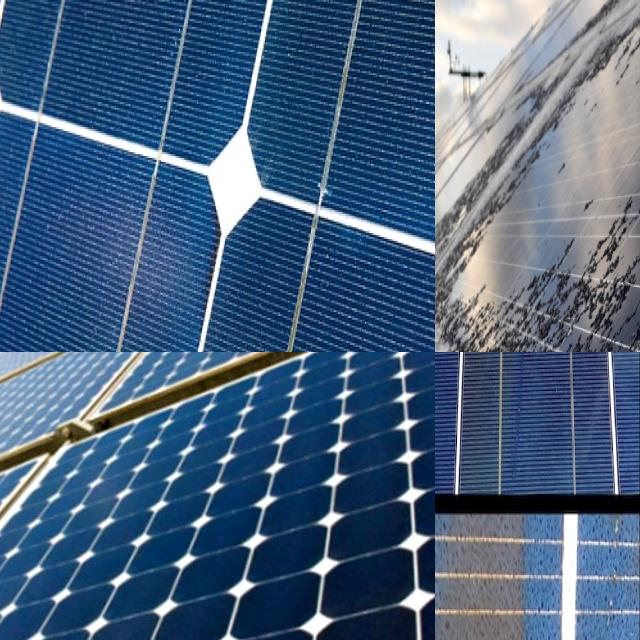crack: (0, 0, 435, 352), (0, 352, 435, 640)
panel: (508, 44, 602, 170), (435, 173, 490, 284), (435, 247, 464, 344), (591, 0, 640, 54)
shadow: (435, 511, 541, 640), (457, 352, 541, 464)
